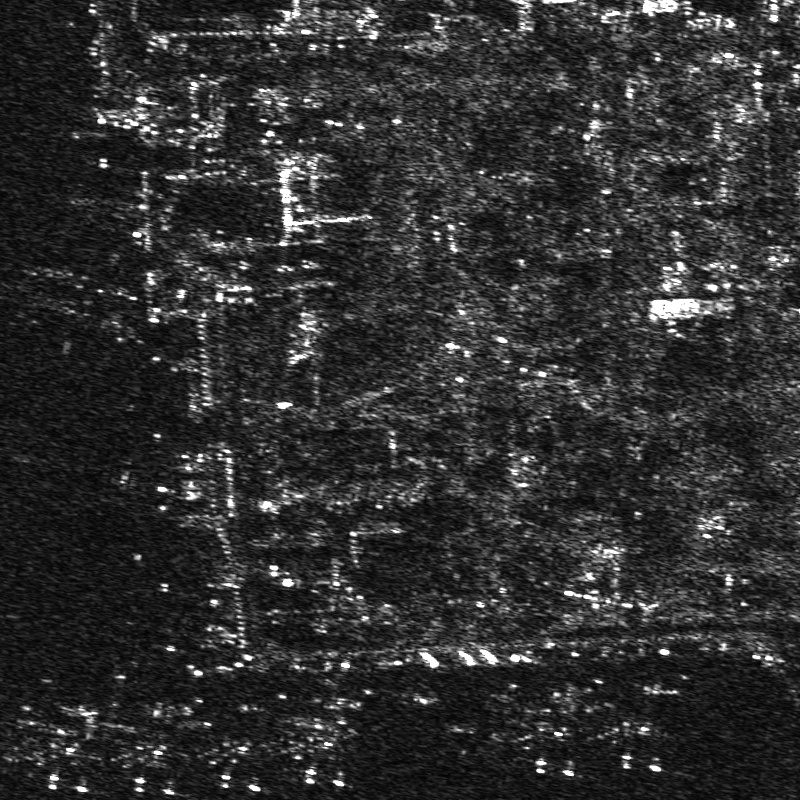A320/321: (32, 702, 104, 794)
ARJ21: (509, 692, 575, 779)
Boeing737: (589, 681, 680, 776), (107, 706, 191, 796), (197, 702, 276, 793)
other: (279, 696, 362, 791)
